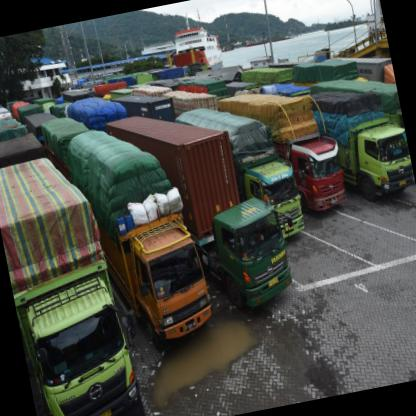truck: (22, 271, 151, 416), (124, 221, 221, 353), (208, 194, 300, 319), (244, 155, 311, 249), (352, 117, 416, 209), (290, 135, 352, 221)
